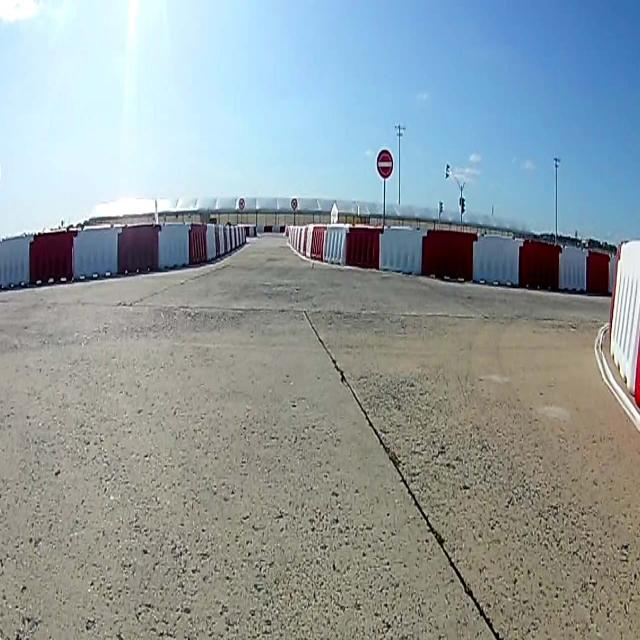girisyok: (376, 149, 394, 179)
